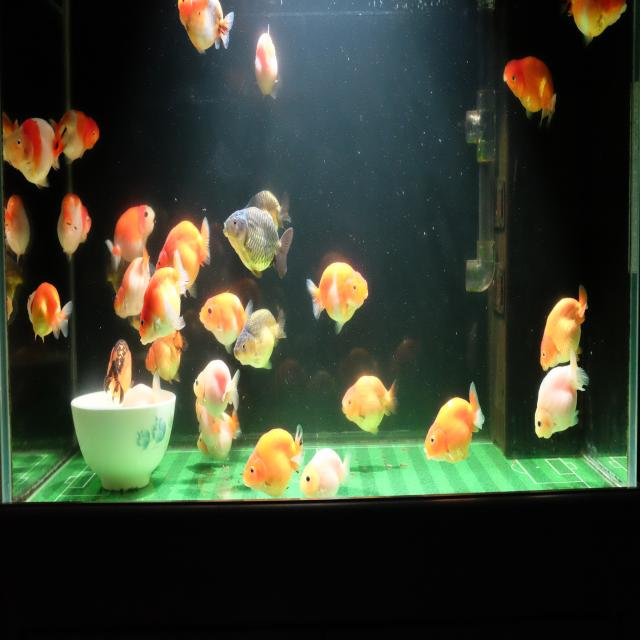Tilapia: (221, 203, 294, 283), (424, 380, 488, 467), (138, 248, 190, 348), (304, 259, 370, 337), (3, 114, 69, 192), (534, 353, 590, 444), (154, 212, 212, 298), (538, 282, 591, 376), (501, 51, 559, 133), (242, 422, 304, 498), (340, 371, 400, 440), (105, 202, 159, 272), (232, 304, 288, 371), (198, 291, 255, 356), (51, 105, 101, 170), (177, 0, 236, 55), (26, 280, 75, 346), (112, 244, 152, 323), (193, 358, 240, 424), (299, 444, 351, 500), (567, 0, 627, 47), (56, 193, 93, 262), (145, 328, 188, 386), (195, 410, 240, 461), (102, 337, 134, 405), (244, 185, 292, 230), (253, 22, 280, 102), (5, 197, 32, 266)
